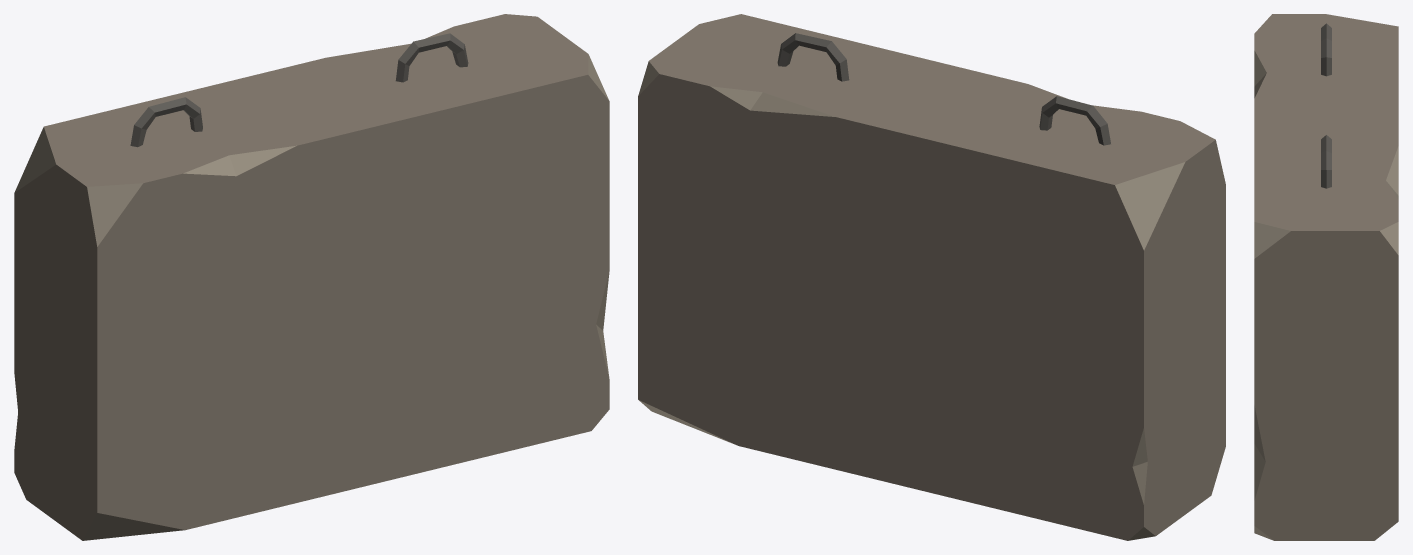
File: SM_Prop_Concrete_Slab_01.fbx
The picture shows the model from 3 angles, left to right: view 1: azimuth 30°, elevation 25°; view 2: azimuth 150°, elevation 25°; view 3: azimuth 270°, elevation 25°; orthographic projection. The views are drawn at different scales.
Parts seen in each view (by area): view 1: SM_Prop_Concrete_Slab_01; view 2: SM_Prop_Concrete_Slab_01; view 3: SM_Prop_Concrete_Slab_01.
Part boxes in pixels (x1,y1,x2,y2): SM_Prop_Concrete_Slab_01: (14, 14, 609, 540); SM_Prop_Concrete_Slab_01: (638, 14, 1225, 540); SM_Prop_Concrete_Slab_01: (1254, 14, 1398, 540).
Size of the model in its own units: 150 by 110 by 42.07.
